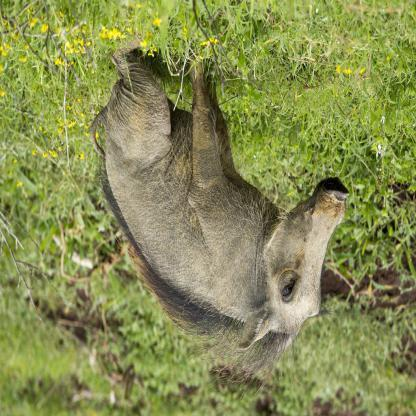boar: (89, 35, 349, 399)
